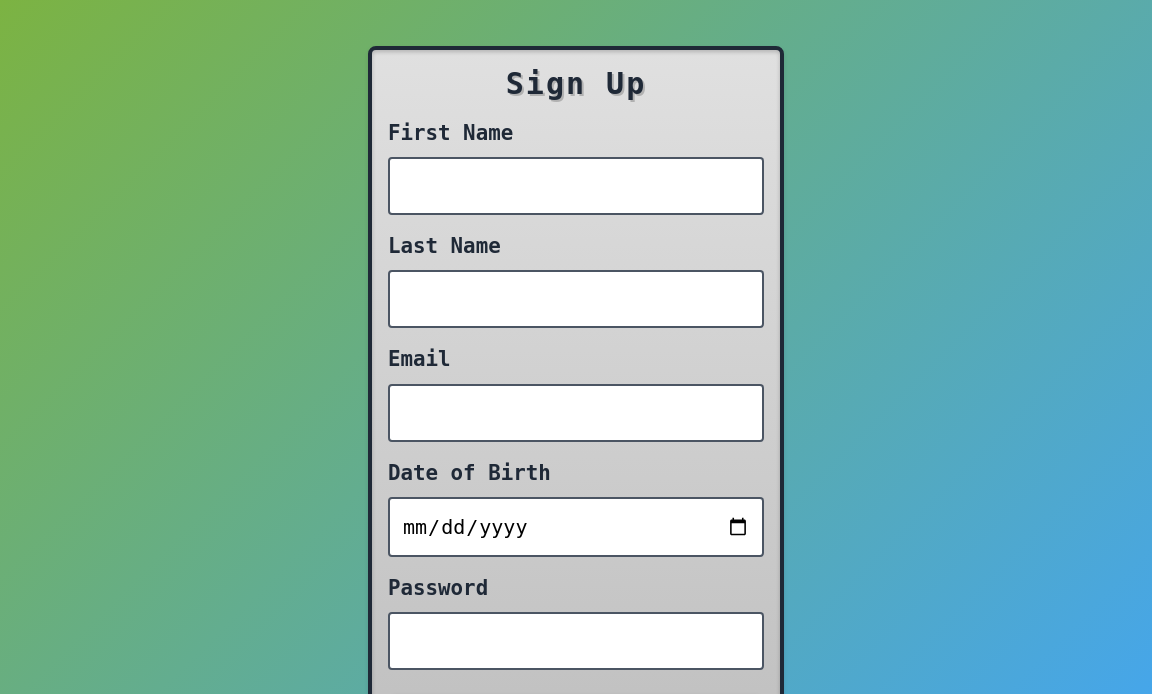
Scenario: Register › disables submit button while loading
This screenshot has width=1152, height=694.
Type "John" into the field labelled "First Name".
click(576, 186); type("John")  # box x1=388 y1=157 x2=764 y2=215
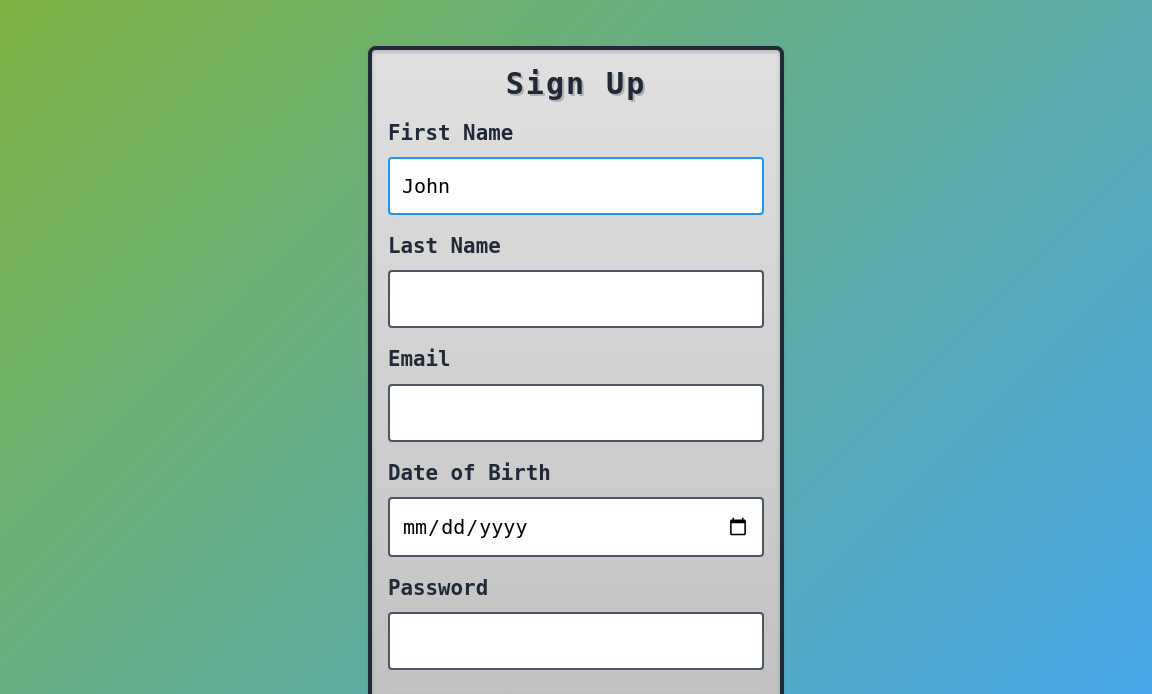
Type "Doe" into the field labelled "Last Name".
click(576, 299); type("Doe")  # box x1=388 y1=270 x2=764 y2=328
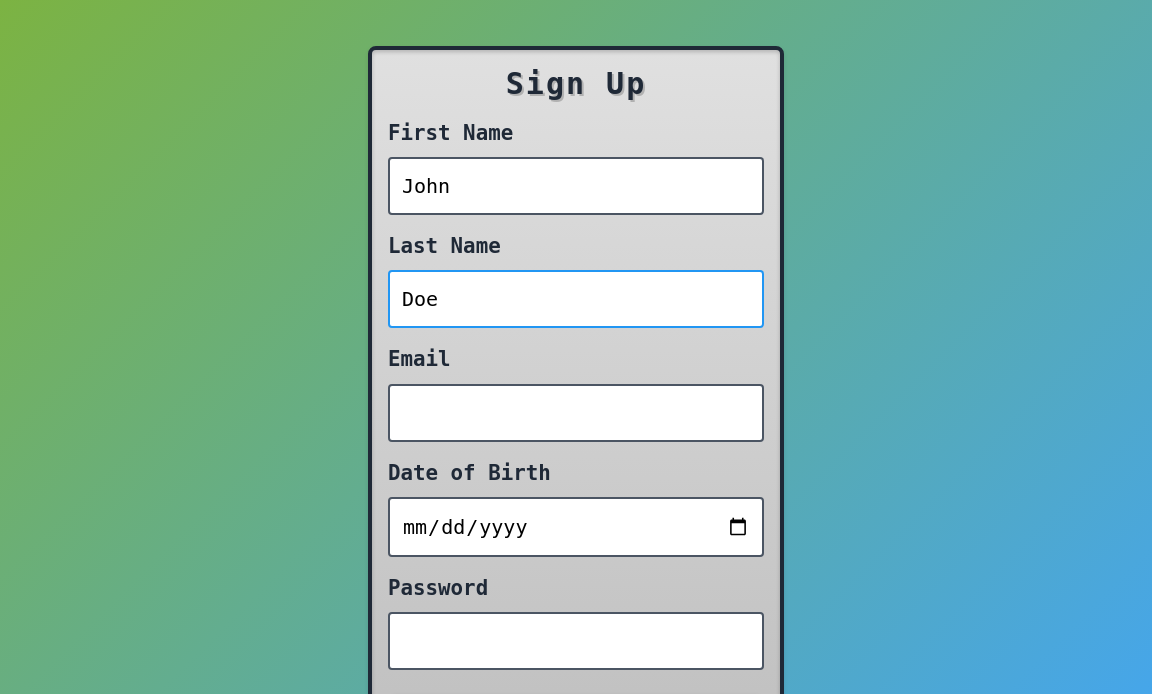
Type "john@example.com" into the field labelled "Email".
click(576, 413); type("john@example.com")  # box x1=388 y1=384 x2=764 y2=442
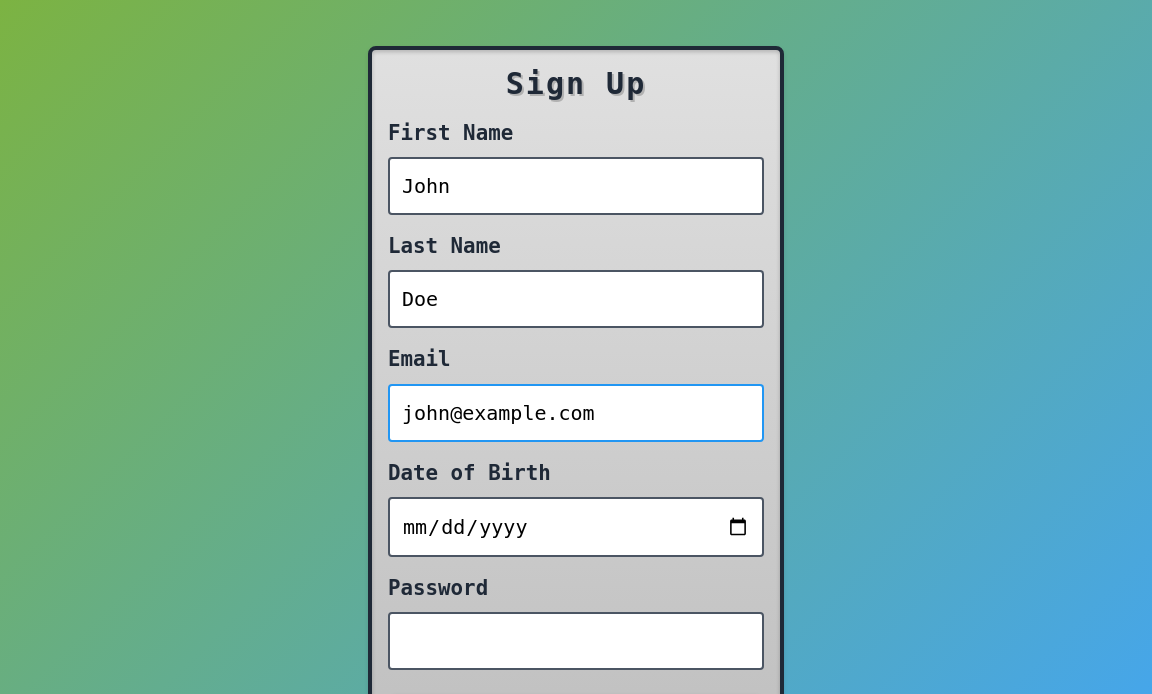
Type "1990-01-01" into the date field labelled "Date of Birth".
click(576, 527); type("1990-01-01")  # box x1=388 y1=497 x2=764 y2=557
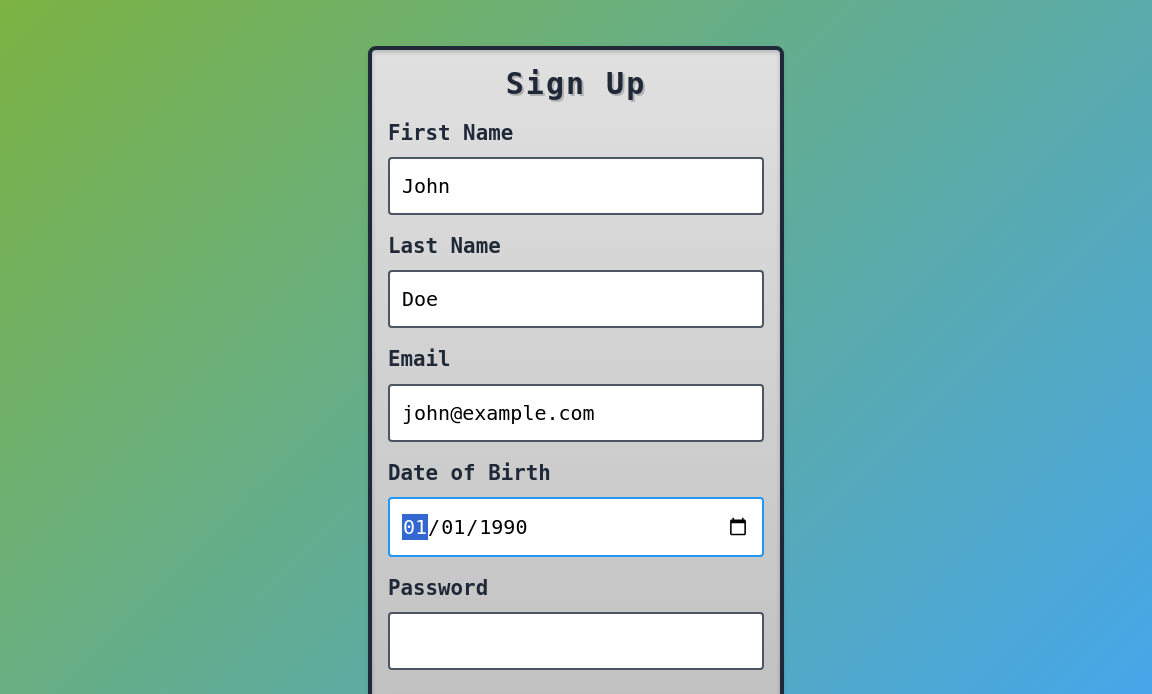
Type "password123" into the password field labelled "Password".
click(576, 641); type("password123")  # box x1=388 y1=612 x2=764 y2=670
(page scrolled)
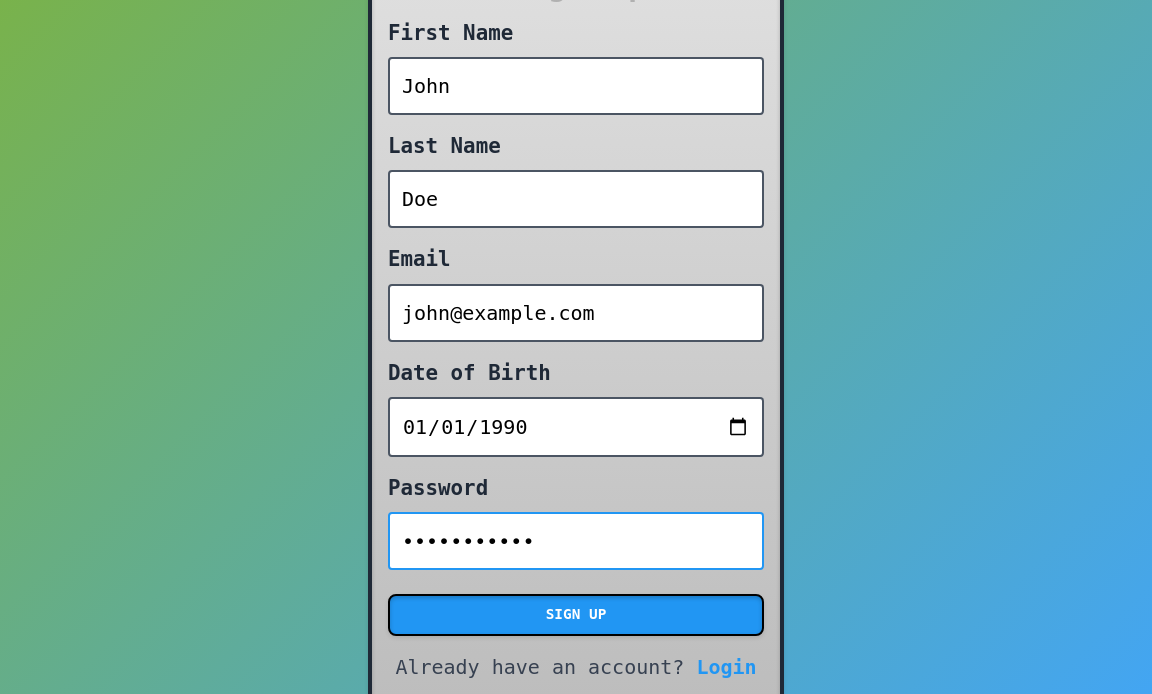
Click the button "Sign Up".
click(576, 615)  # box x1=388 y1=594 x2=764 y2=636
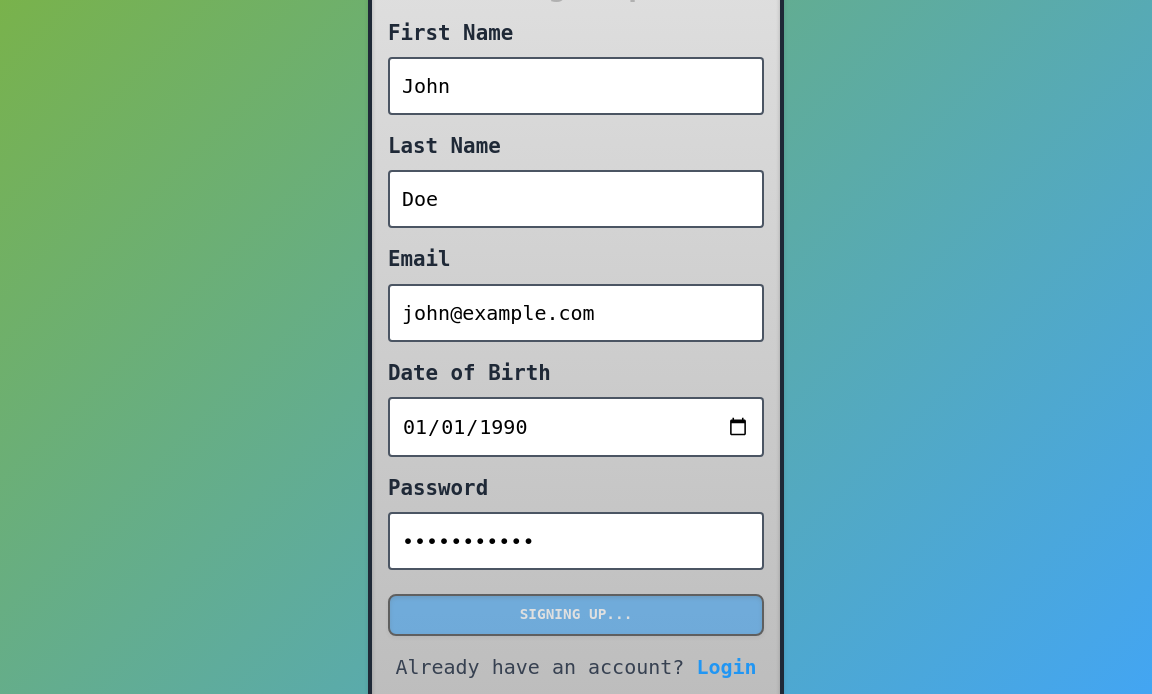
expect the button named "sign up" is disabled: met, box x1=388 y1=594 x2=764 y2=636
expect the button named "sign up" reads "Signing up...": met, box x1=388 y1=594 x2=764 y2=636
